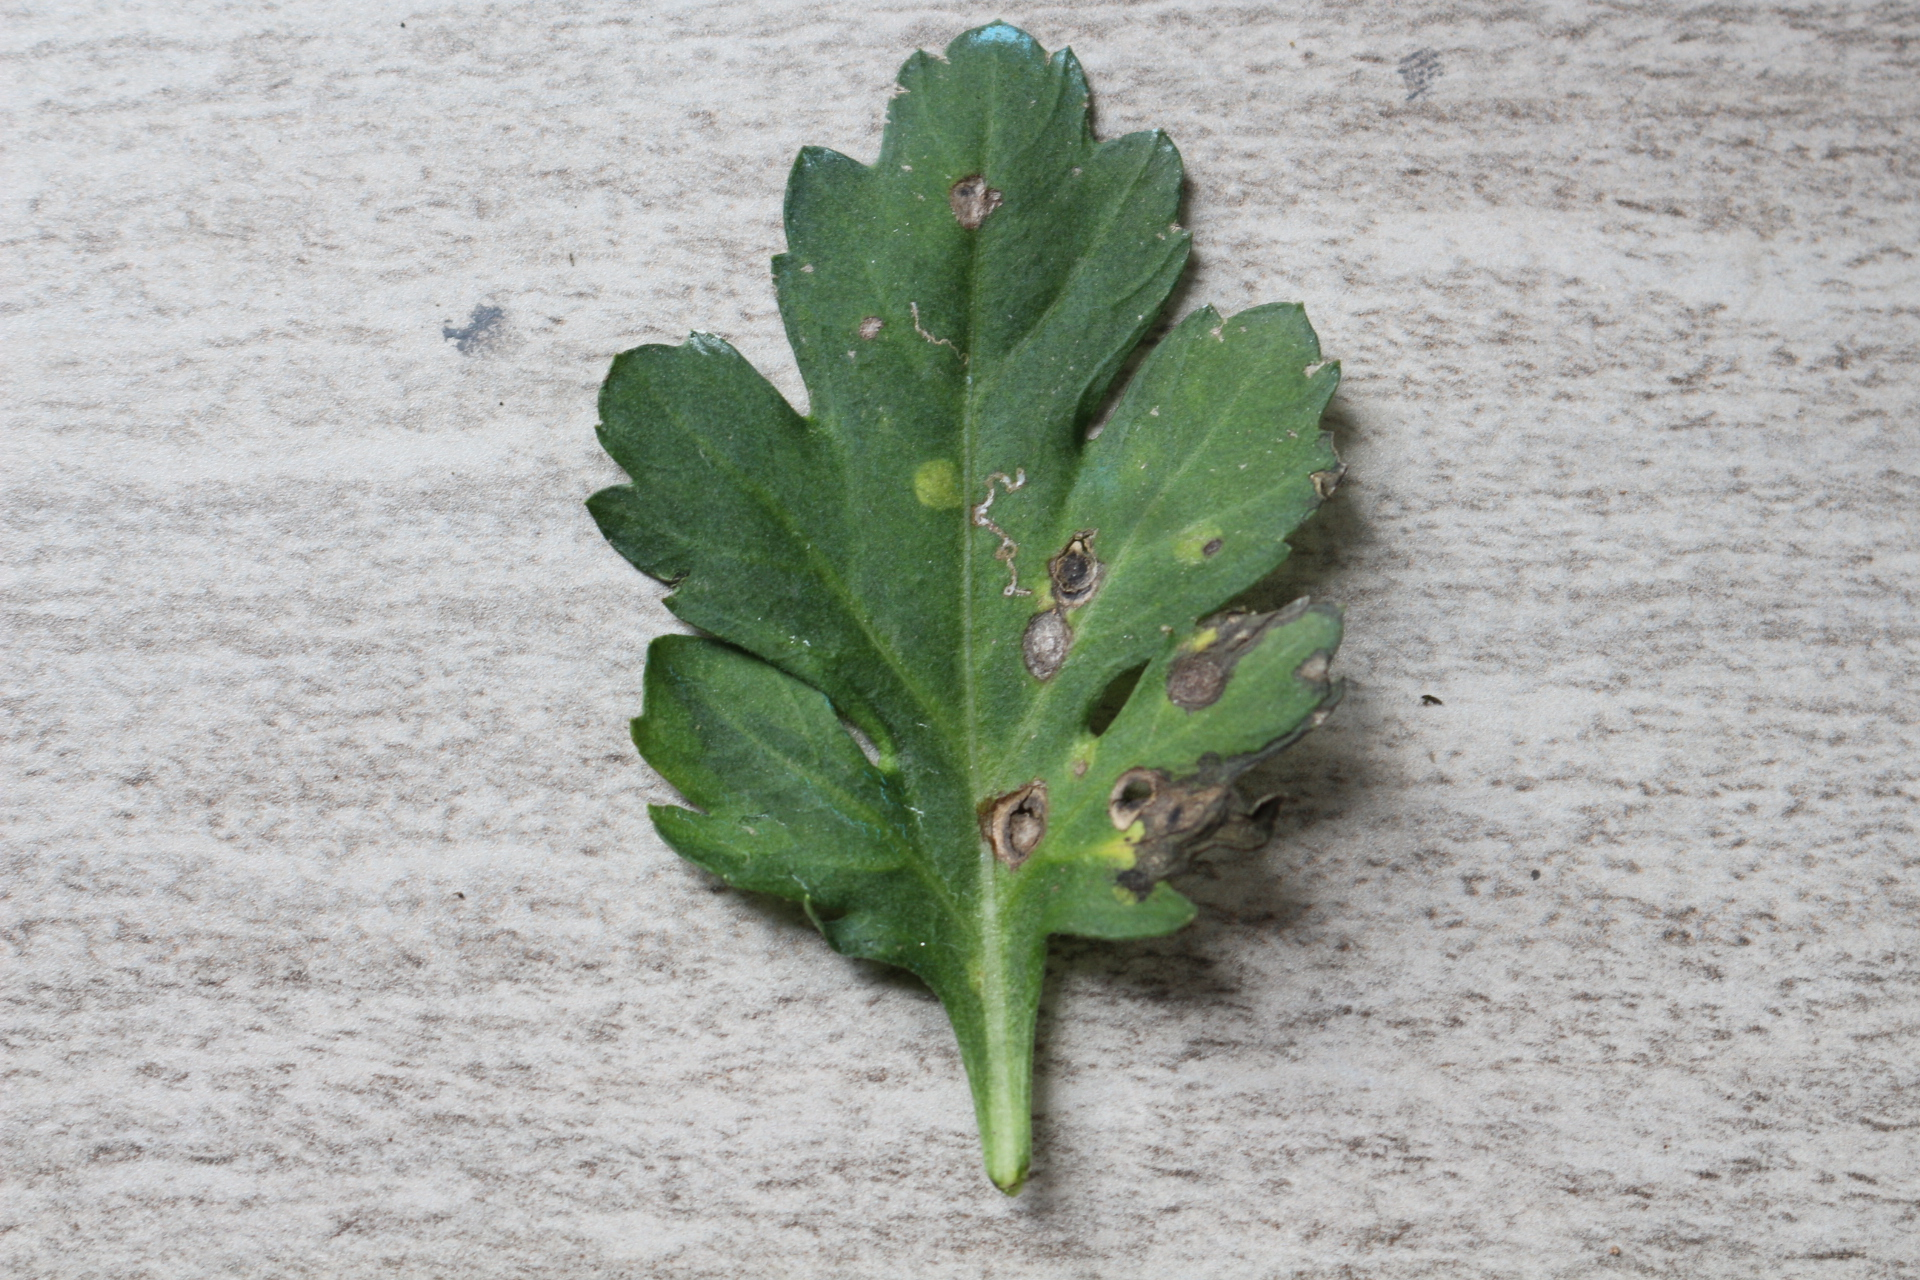namden: (981, 786, 1050, 863), (1017, 607, 1076, 689), (941, 170, 1006, 236), (1049, 537, 1109, 604)
namsung: (909, 454, 967, 511)
